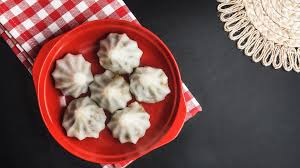modak: (68, 96, 111, 145), (84, 69, 136, 108), (129, 64, 176, 105), (54, 54, 95, 97), (110, 103, 148, 143), (100, 34, 138, 66)
